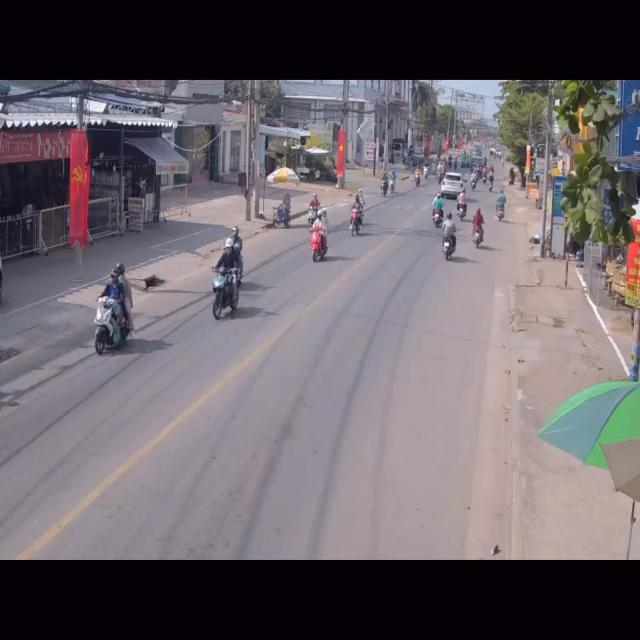car: (443, 172, 466, 199)
motorbike: (93, 265, 132, 358), (212, 230, 244, 326), (310, 217, 330, 266), (442, 214, 458, 261), (350, 194, 364, 236), (474, 205, 487, 248), (454, 187, 468, 218), (431, 192, 443, 228), (308, 194, 319, 228), (496, 191, 506, 221)
